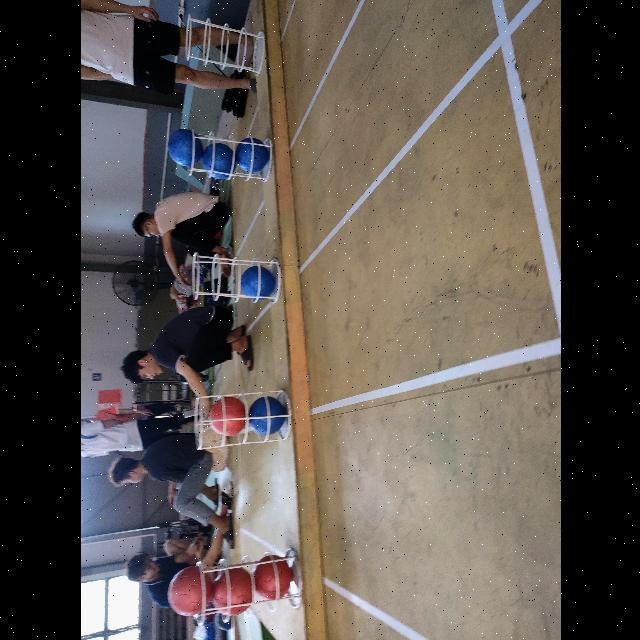B: (166, 128, 204, 168), (246, 396, 284, 434), (238, 266, 274, 302), (204, 142, 234, 182), (236, 138, 270, 172)
R: (168, 566, 214, 618), (213, 567, 253, 615), (252, 556, 292, 602), (207, 396, 245, 436)
